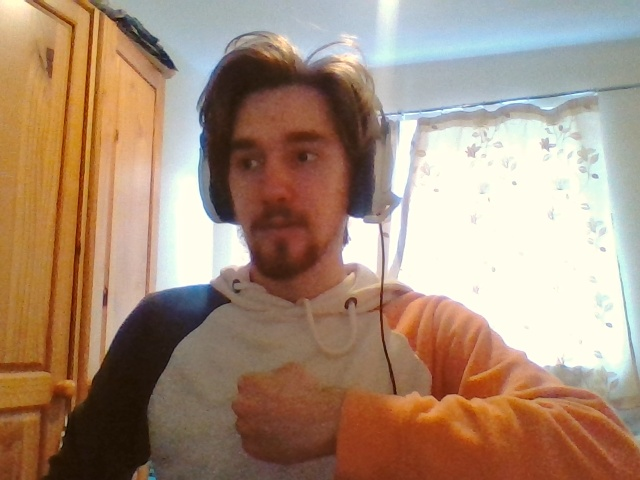morning: (232, 363, 315, 464)
